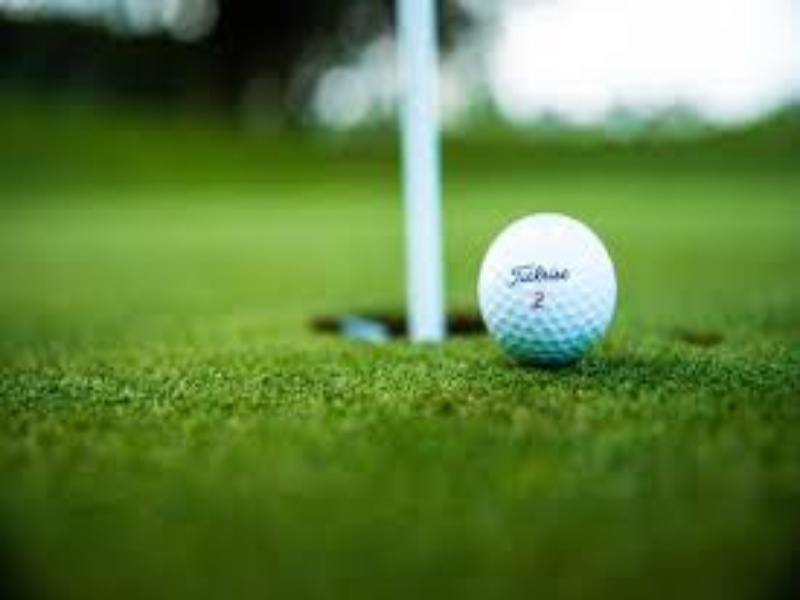golf_ball: (475, 212, 618, 372)
